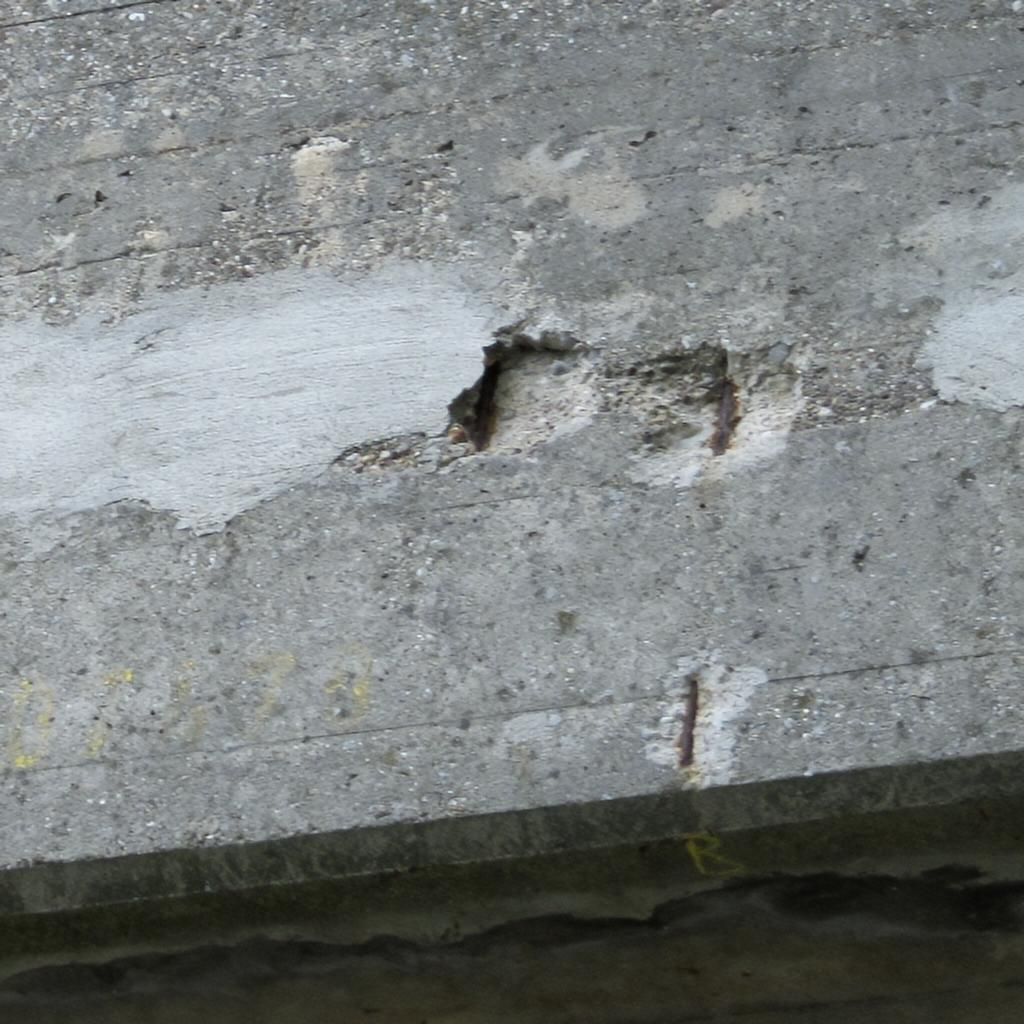exposed_rebar: (710, 378, 738, 455), (678, 678, 698, 767)
spalling: (338, 322, 800, 489), (644, 656, 766, 784)
